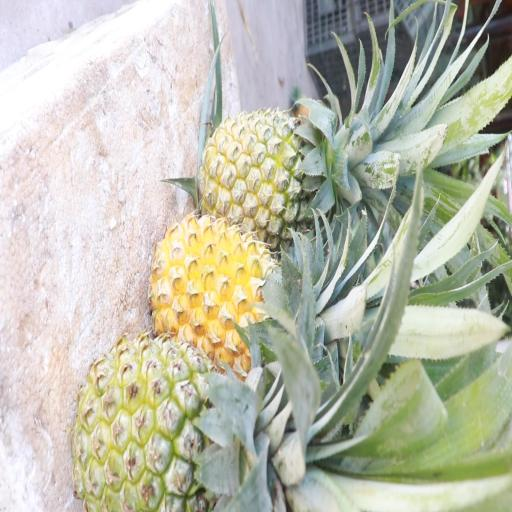------------------------------: (80, 339, 251, 512), (204, 112, 339, 247)
Pineapple - v8 v1: (156, 212, 296, 368)
